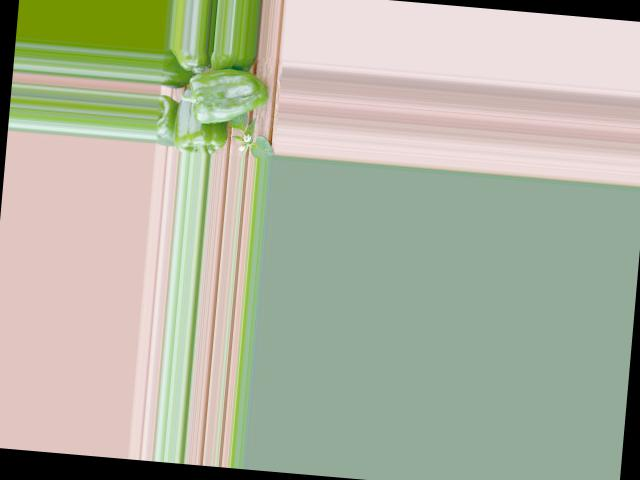bell_pepper: (166, 47, 205, 76)
